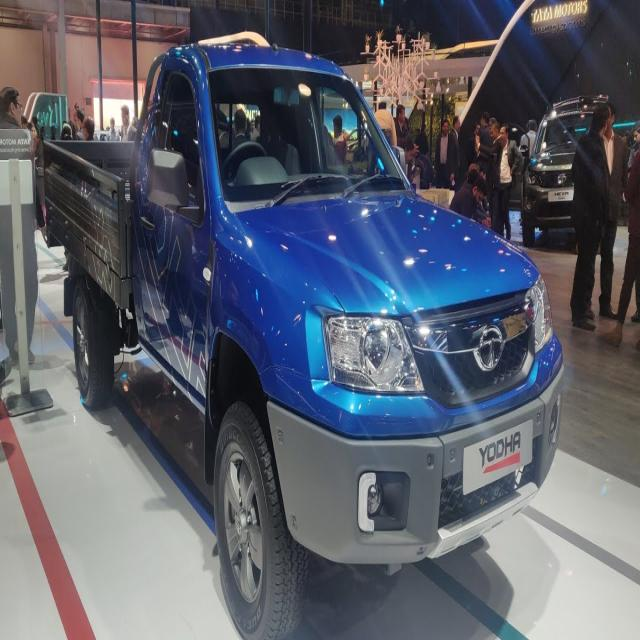light_vehicle: (36, 40, 565, 640)
